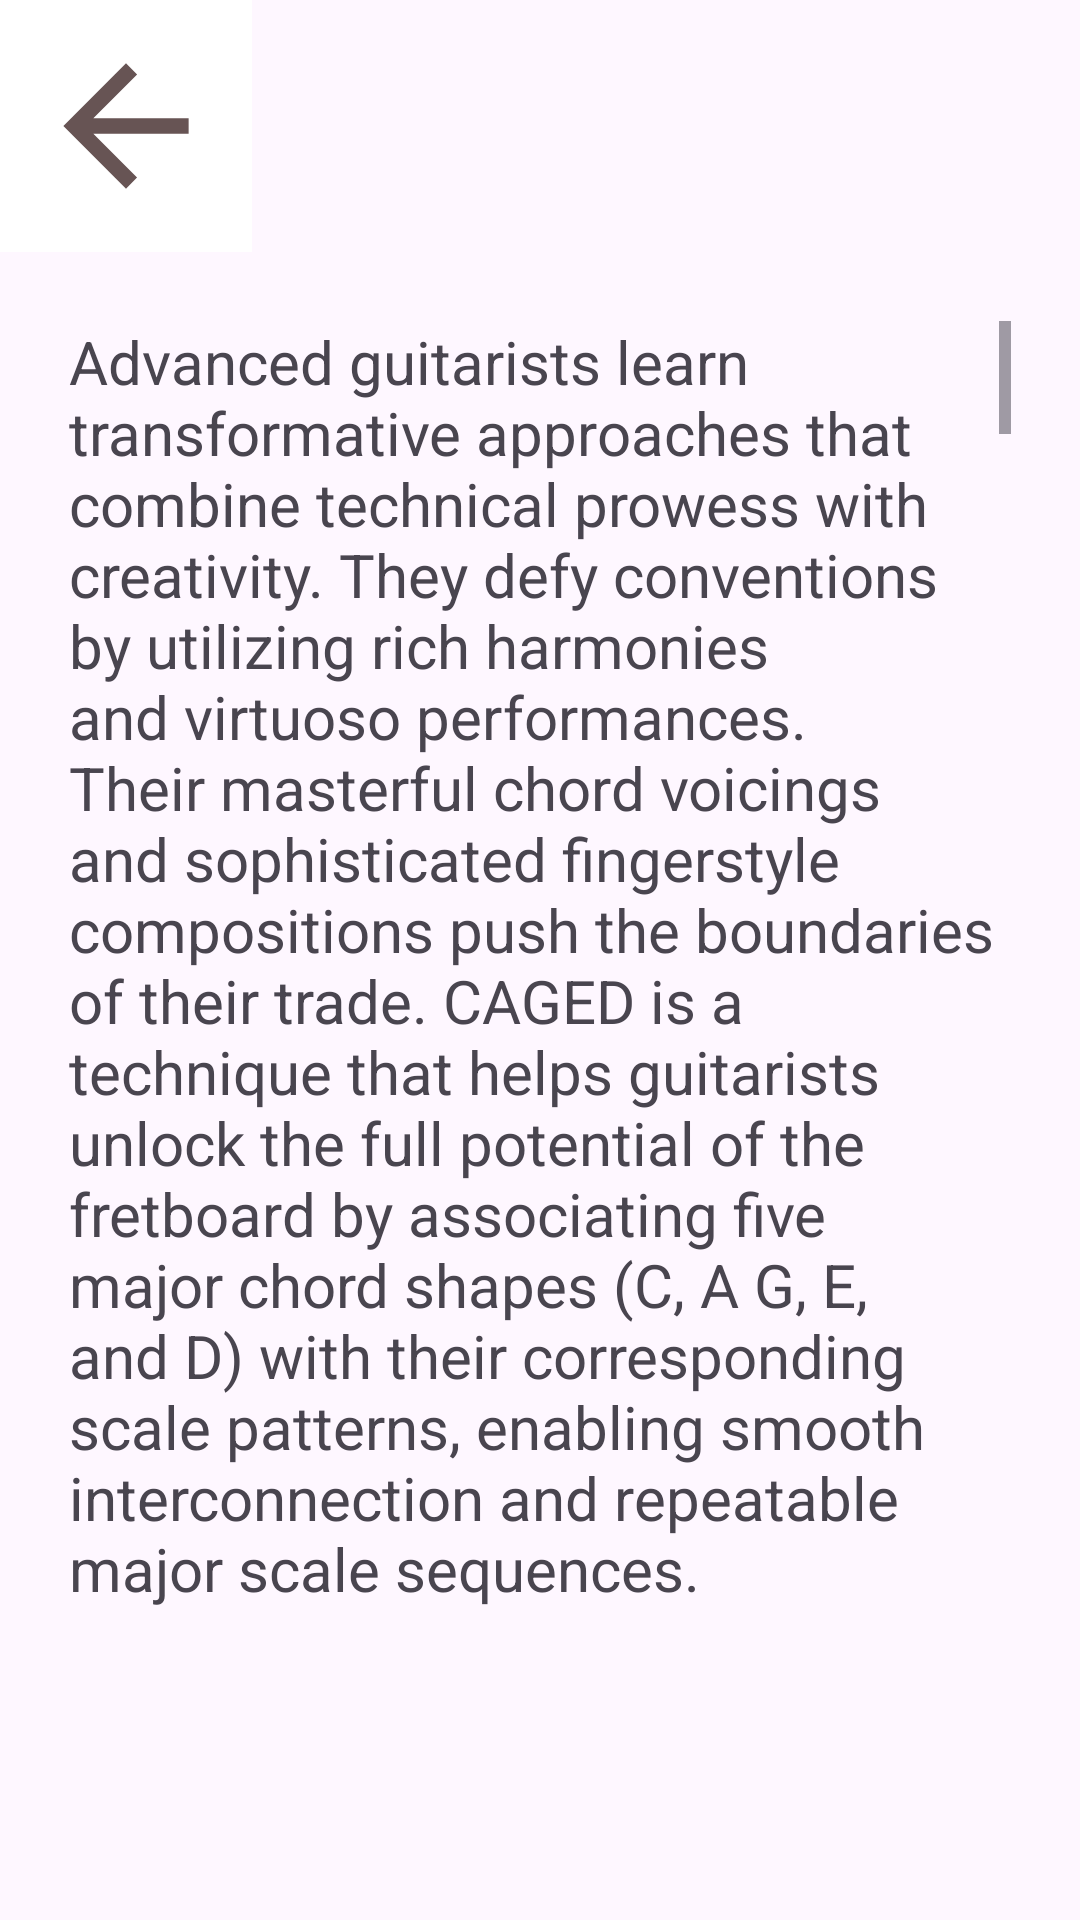

Named icons in this screenshot (1080px×1920px) and their bounding boxes, {"x1": x1, "y1": y1, "x2": x2, "y2": y2}:
back: {"x1": 63, "y1": 63, "x2": 189, "y2": 189}
